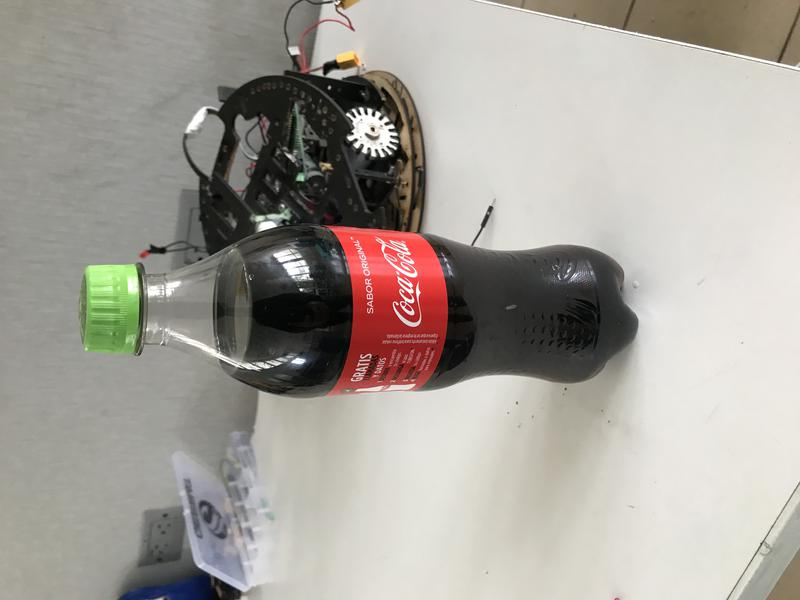coca_cola: (80, 224, 638, 400)
